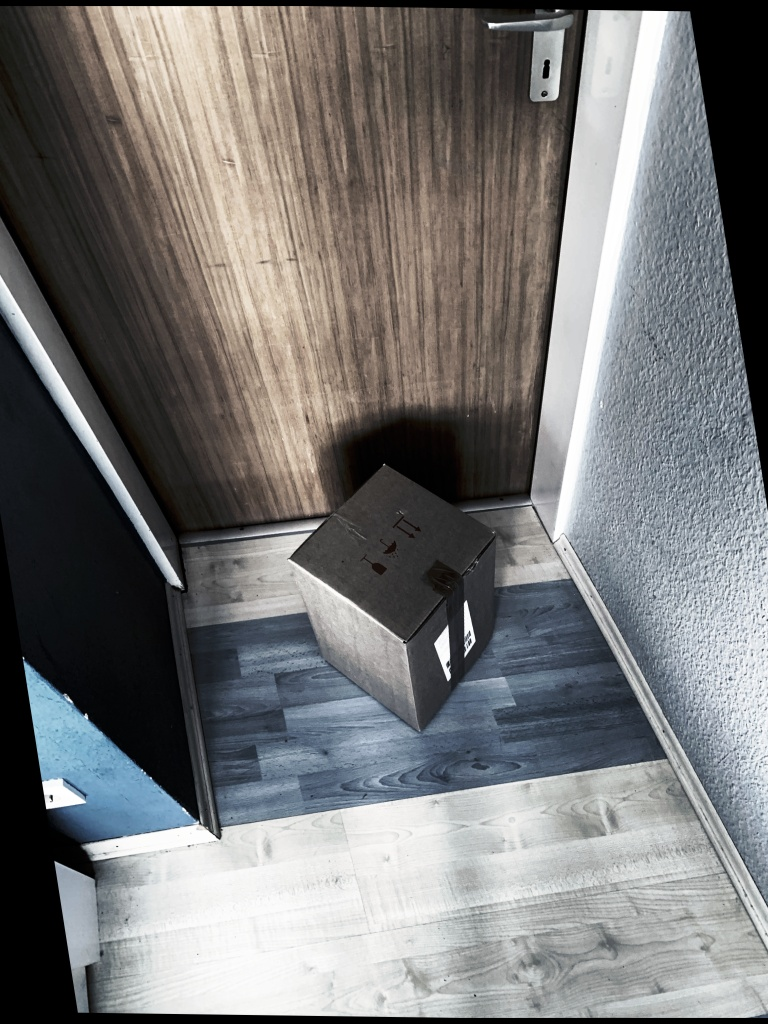good-parcel: (286, 446, 516, 759)
